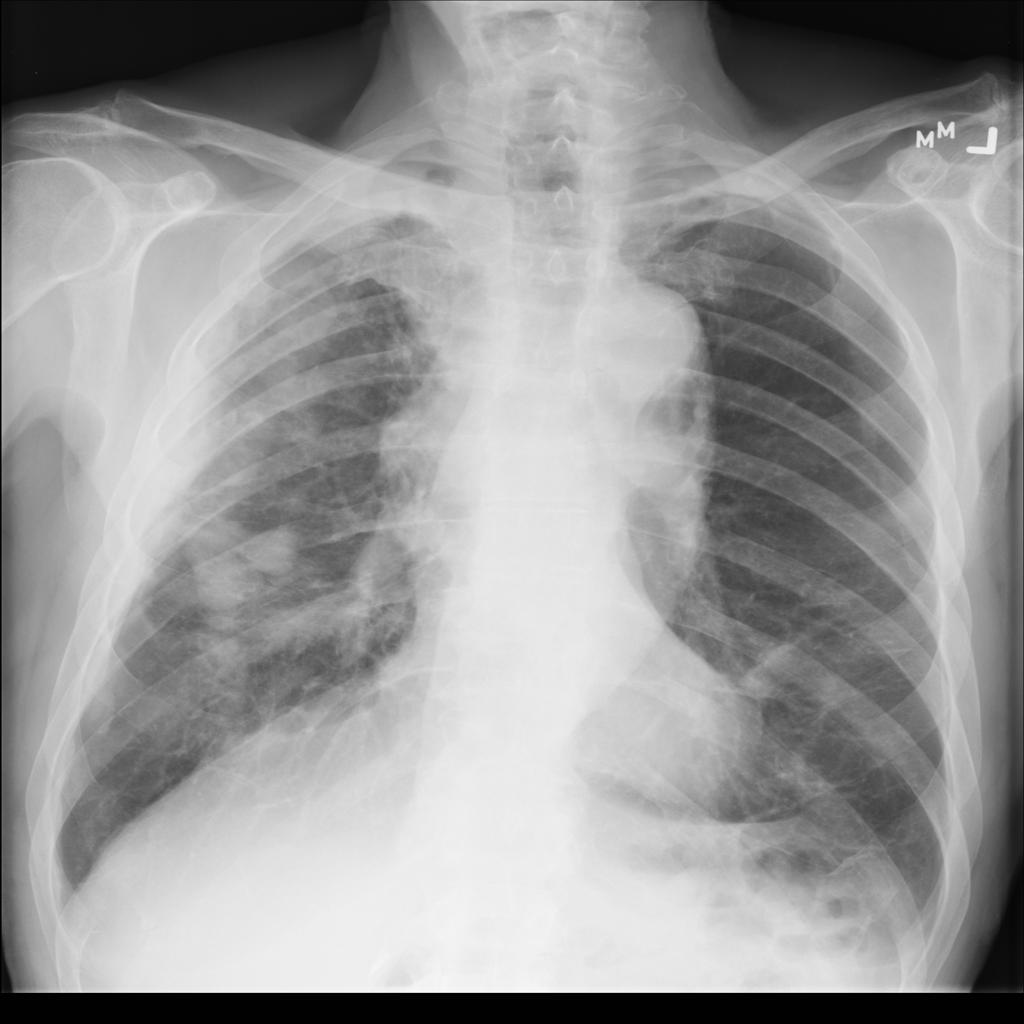nodule: (182, 546, 268, 618), (236, 517, 313, 585)
